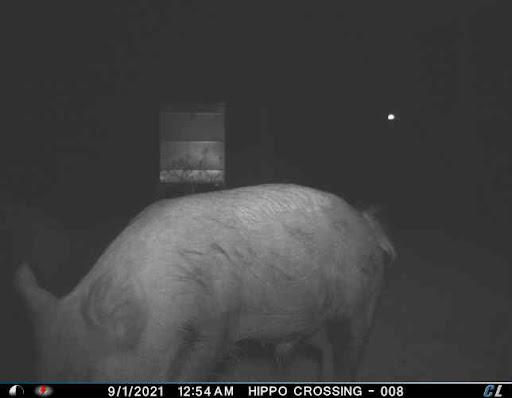Hog: (15, 177, 428, 376)
